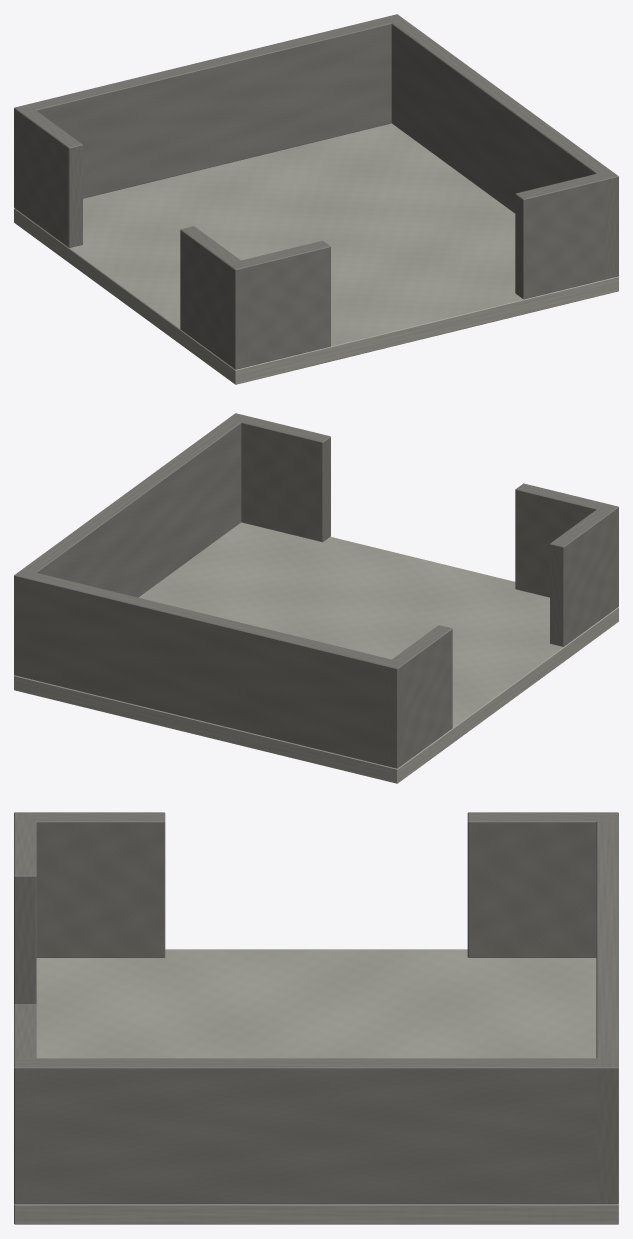
File: U05_ReturnCorner_visual.glb
3 views of the same model, one above another, from view 1: azimuth 30°, elevation 25°; view 2: azimuth 150°, elevation 25°; view 3: azimuth 270°, elevation 25° (orthographic). The views are drawn at different scales.
Parts seen in each view (by area): view 1: U05_ReturnCorner__VIS_shell; view 2: U05_ReturnCorner__VIS_shell; view 3: U05_ReturnCorner__VIS_shell.
Boxes of the visible parts, x1,y1,x2,y2 form: U05_ReturnCorner__VIS_shell: [14, 14, 618, 384]; U05_ReturnCorner__VIS_shell: [14, 413, 618, 783]; U05_ReturnCorner__VIS_shell: [14, 812, 618, 1224].
Bounding box in the file's own units: 16 × 4.6 × 16.
Materials: 1 (1 with a texture image).
